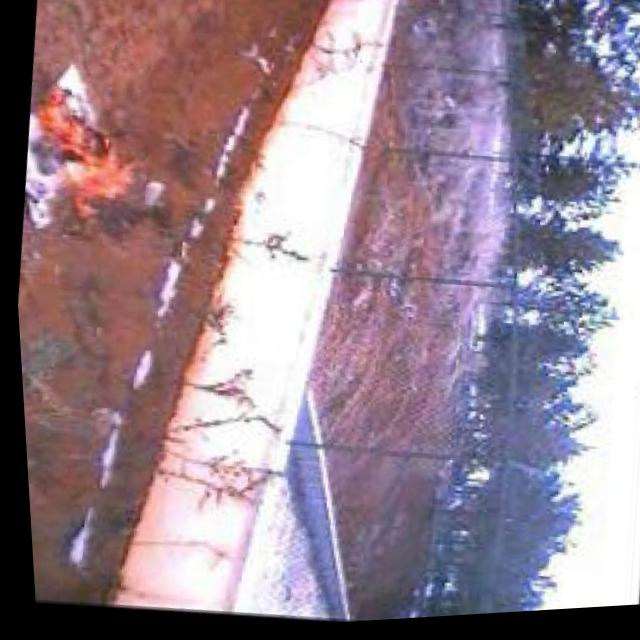Fire: (16, 76, 153, 244)
